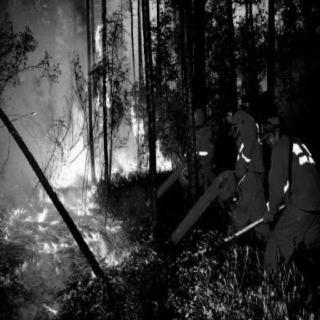Fire: (1, 181, 136, 301), (54, 78, 174, 182)
other: (173, 100, 313, 258)
